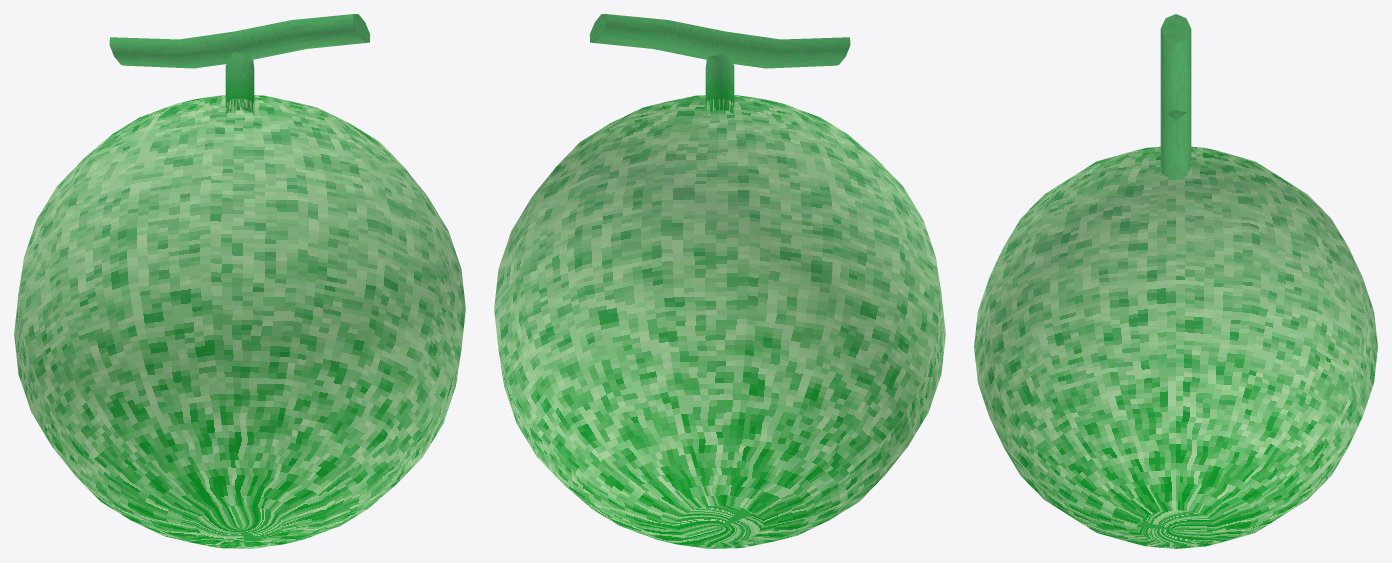
Rendered from ps2_save-icons_deadoralive2hardcore.glb.
3 views of the same model, side by side, from view 1: azimuth 30°, elevation 25°; view 2: azimuth 150°, elevation 25°; view 3: azimuth 270°, elevation 25° (orthographic). The views are drawn at different scales.
Parts seen in each view (by area): view 1: slime1.ico; view 2: slime1.ico; view 3: slime1.ico.
Boxes of the visible parts, left/top/right/bottom form: slime1.ico: left=14, top=14, right=465, bottom=548; slime1.ico: left=494, top=14, right=945, bottom=548; slime1.ico: left=974, top=14, right=1377, bottom=548.
Size of the model in its own units: 3.8 by 4.8 by 3.8.
Materials: 1 (1 with a texture image).
